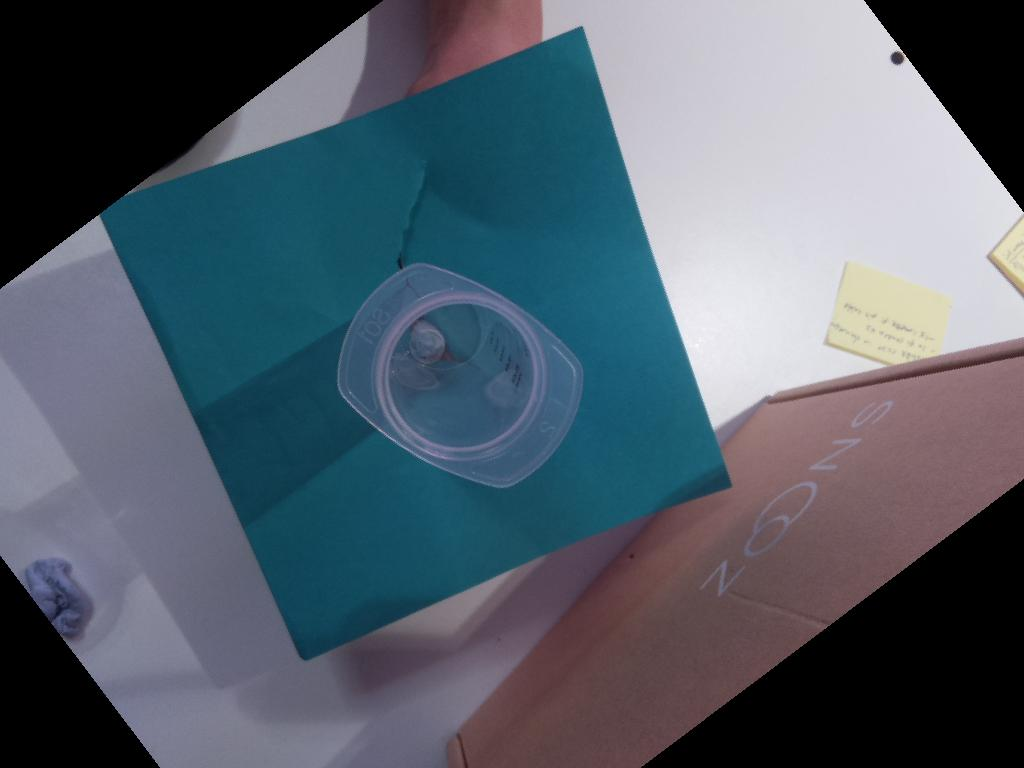clean: (335, 262, 584, 488)
